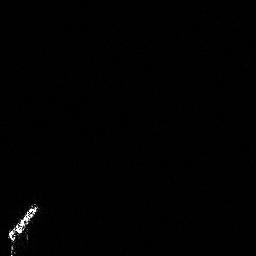ship: (4, 200, 42, 256)
